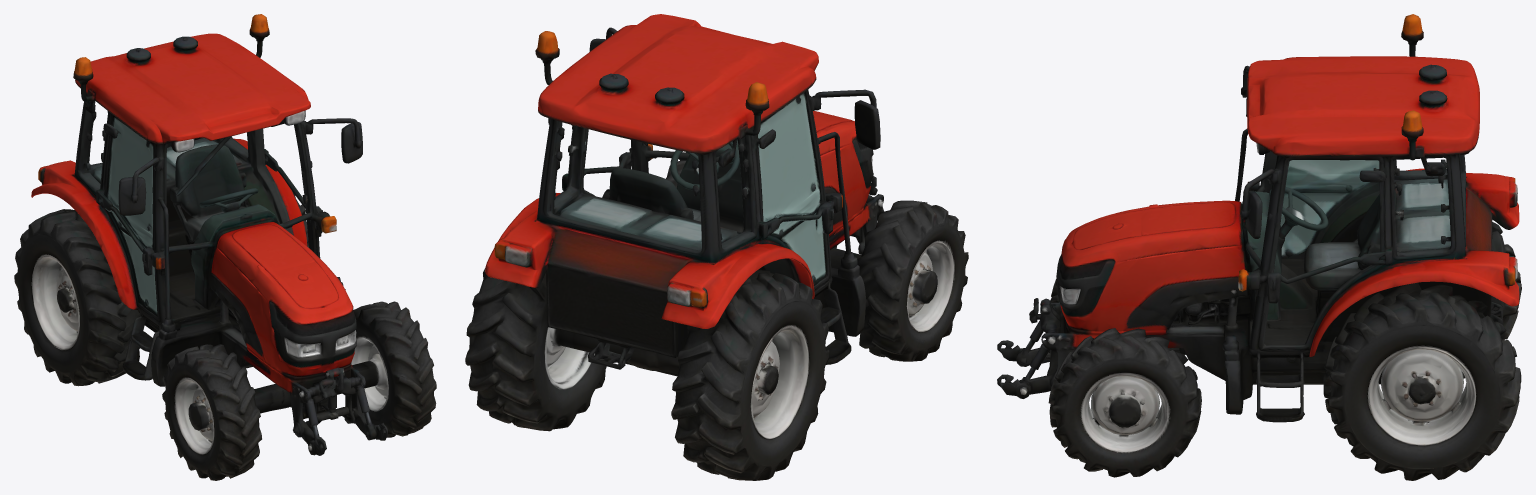
Rendered from tractor_red.glb.
The picture shows the model from 3 angles, left to right: view 1: azimuth 30°, elevation 25°; view 2: azimuth 150°, elevation 25°; view 3: azimuth 270°, elevation 25°; orthographic projection. The views are drawn at different scales.
Visible parts, largest first — view 1: tripo_node_5276fd56-6a07-4f17-8f96-b6b86e9c34a9; view 2: tripo_node_5276fd56-6a07-4f17-8f96-b6b86e9c34a9; view 3: tripo_node_5276fd56-6a07-4f17-8f96-b6b86e9c34a9.
Part boxes in pixels (x1,y1,x2,y2): tripo_node_5276fd56-6a07-4f17-8f96-b6b86e9c34a9: [14, 14, 436, 480]; tripo_node_5276fd56-6a07-4f17-8f96-b6b86e9c34a9: [465, 14, 968, 480]; tripo_node_5276fd56-6a07-4f17-8f96-b6b86e9c34a9: [997, 14, 1521, 480].
Size of the model in its own units: 0.5881 by 0.744 by 0.9795.
1 material, 1 textured.
